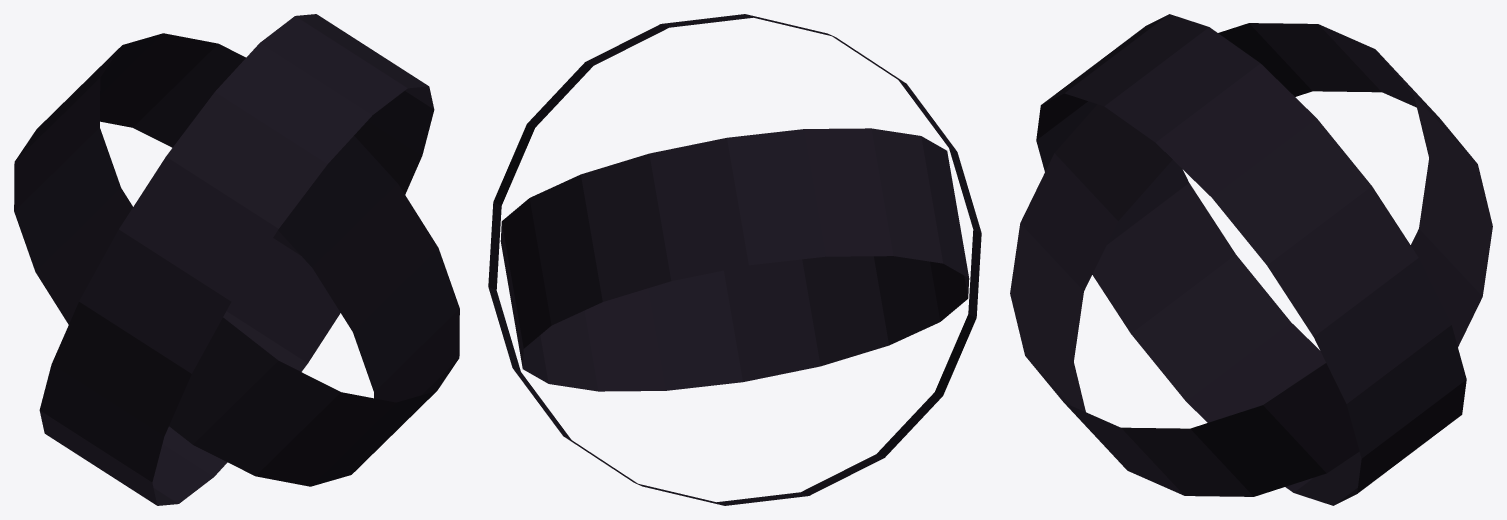
Rendered from tx_boss_shouhuzhiyuan_keep_01.obj.
The picture shows the model from 3 angles, left to right: view 1: azimuth 30°, elevation 25°; view 2: azimuth 150°, elevation 25°; view 3: azimuth 270°, elevation 25°; orthographic projection. The views are drawn at different scales.
Visible parts, largest first — view 1: Cylinder02, Cylinder08; view 2: Cylinder08, Cylinder02; view 3: Cylinder02, Cylinder08.
Part boxes in pixels (x1,y1,x2,y2): Cylinder02: [39, 14, 434, 505]; Cylinder08: [14, 33, 459, 486]; Cylinder08: [500, 128, 969, 391]; Cylinder02: [488, 14, 981, 505]; Cylinder02: [1036, 14, 1466, 505]; Cylinder08: [1010, 23, 1492, 496].
Bounding box in the file's own units: 68.25 × 69.92 × 65.41.
Materials: 1 (1 with a texture image).
